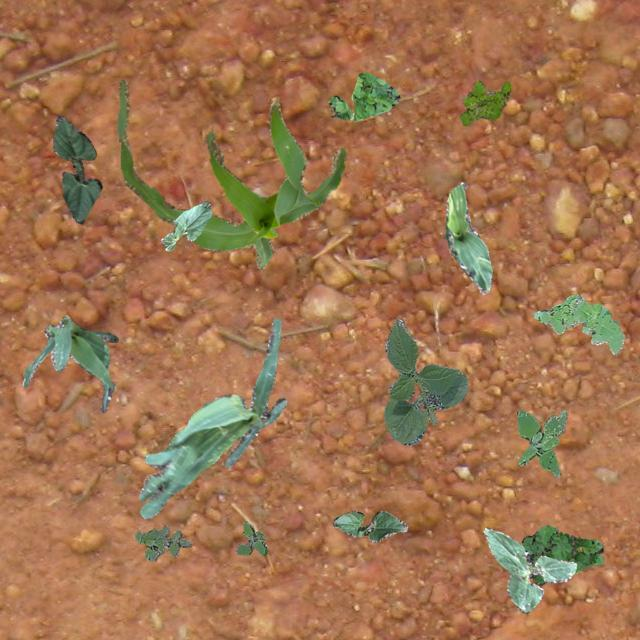crop: (116, 79, 346, 268), (137, 316, 286, 518), (382, 318, 467, 444), (22, 314, 118, 412), (482, 526, 576, 612), (442, 182, 492, 292), (51, 115, 100, 222), (160, 200, 210, 250), (332, 509, 407, 542)
weed: (532, 294, 624, 354), (520, 524, 602, 584), (516, 408, 566, 476), (328, 72, 398, 120), (458, 80, 509, 124), (134, 524, 190, 560), (234, 520, 266, 554)
